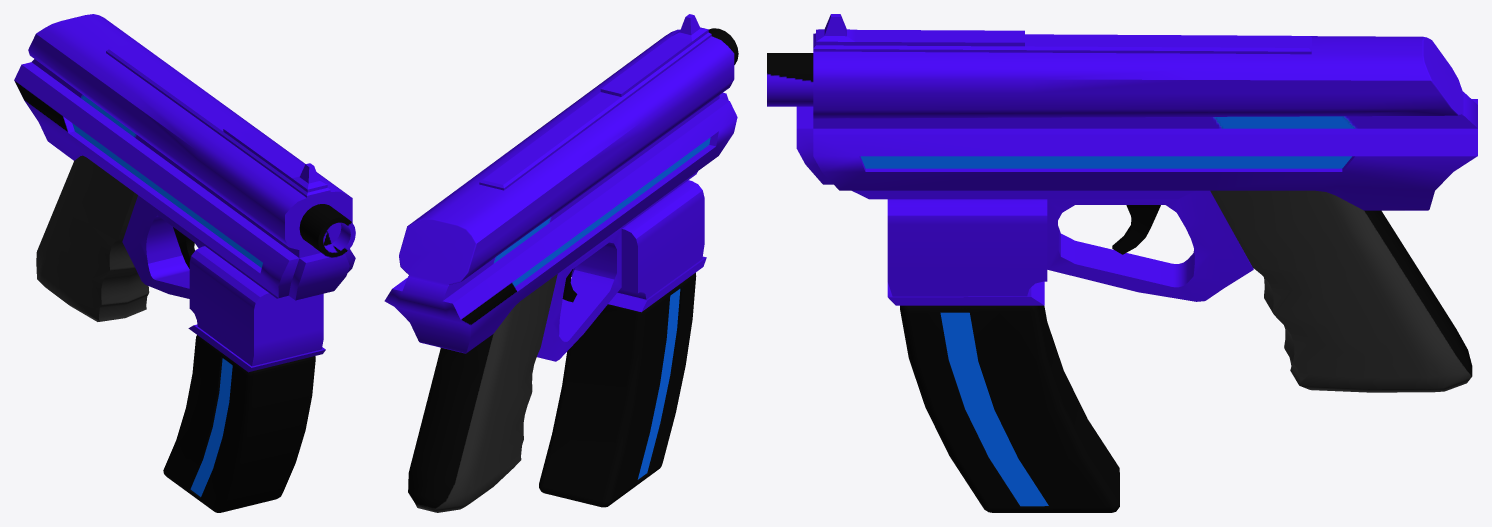
File: smgNoStock.fbx
3 views of the same model, side by side, from view 1: azimuth 30°, elevation 25°; view 2: azimuth 150°, elevation 25°; view 3: azimuth 270°, elevation 25° (orthographic). The views are drawn at different scales.
Parts seen in each view (by area): view 1: polySurface8; view 2: polySurface8; view 3: polySurface8.
Part boxes in pixels (x1,y1,x2,y2): polySurface8: (14, 14, 355, 512); polySurface8: (384, 14, 738, 512); polySurface8: (767, 14, 1477, 512).
Bounding box in the file's own units: 0.0357 × 0.1767 × 0.2373.
1 material, 1 textured.
